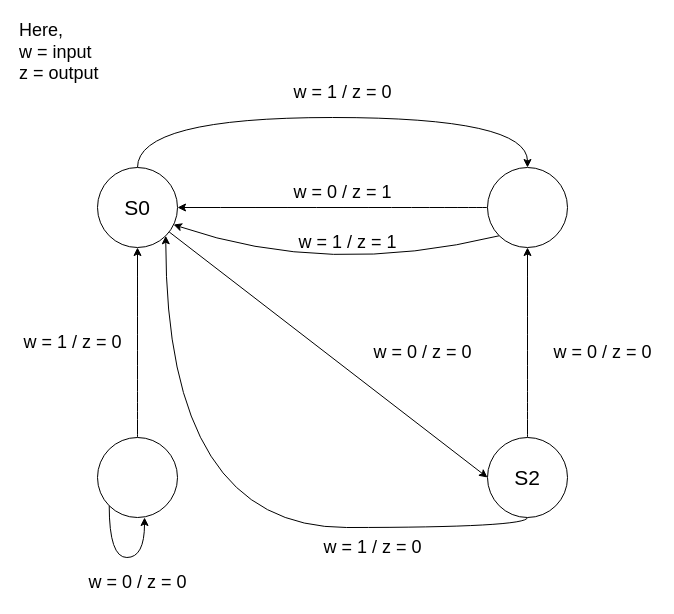
The diagram is 674 pixels wide and 614 high, and some of its shapes have lost their labels. Here are the shapes that lost their labels. From the top down, the box of each, then its label:
(486, 166, 568, 248): S3
(96, 436, 178, 518): S1
